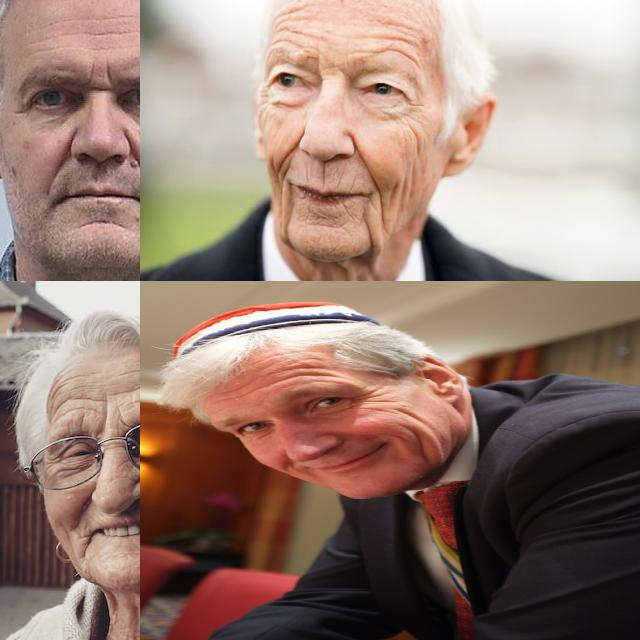chin: (304, 212, 352, 234), (78, 214, 125, 236)
crows_feet: (398, 87, 432, 121), (351, 387, 389, 408), (44, 454, 62, 481), (11, 100, 35, 120), (257, 82, 273, 110)
forehead: (370, 25, 424, 61), (274, 6, 316, 50), (50, 374, 90, 416), (80, 23, 118, 52), (220, 381, 269, 401), (72, 12, 126, 30), (26, 30, 60, 56), (282, 359, 325, 378)
frown_line: (84, 59, 114, 96), (323, 59, 347, 77), (98, 410, 110, 436), (114, 414, 128, 436)
gummy_smile: (348, 138, 378, 184), (70, 493, 96, 529), (279, 132, 301, 174), (53, 143, 73, 180), (125, 135, 140, 183)
masseter: (395, 168, 423, 210), (405, 128, 431, 160), (408, 430, 435, 458), (393, 404, 425, 424)
sad_smile: (368, 188, 388, 240), (276, 178, 294, 222), (79, 532, 95, 562)
